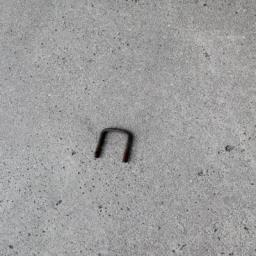FOD: (93, 123, 136, 166)
